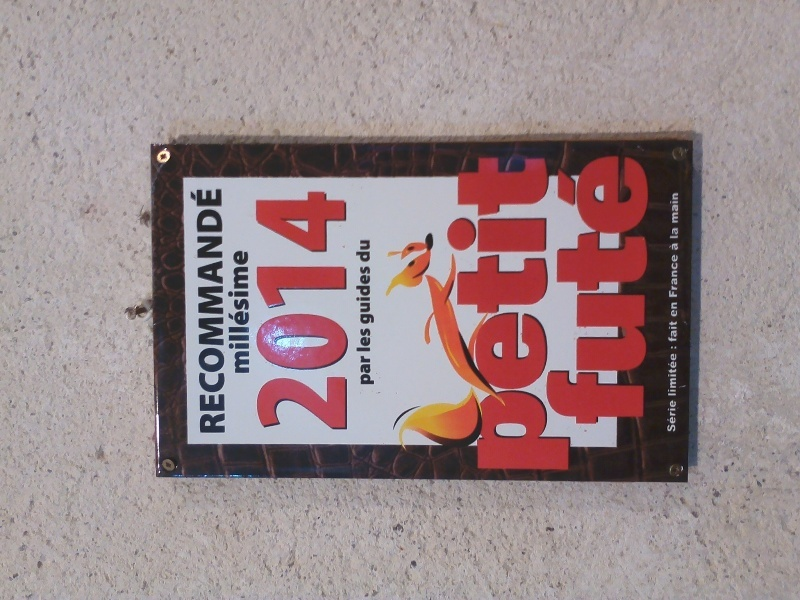text: (465, 151, 480, 477), (481, 151, 496, 477), (497, 151, 512, 477), (513, 151, 528, 477), (529, 151, 544, 477), (545, 151, 560, 477), (561, 151, 576, 477), (451, 151, 464, 477), (561, 152, 576, 428), (577, 152, 592, 428), (593, 152, 608, 428), (609, 152, 624, 428), (625, 152, 640, 428), (641, 152, 656, 428), (193, 181, 208, 435), (209, 181, 224, 435), (257, 190, 272, 432), (273, 190, 288, 432), (289, 190, 304, 432), (305, 190, 320, 432), (321, 190, 336, 432), (337, 190, 350, 432), (226, 247, 240, 376), (554, 152, 560, 428), (241, 247, 251, 376), (188, 181, 192, 435), (355, 266, 368, 327), (225, 181, 228, 435), (254, 190, 256, 432), (369, 266, 376, 327), (356, 239, 368, 263), (358, 326, 368, 354), (359, 355, 368, 386), (657, 152, 658, 428), (673, 252, 679, 298), (673, 353, 679, 398), (369, 355, 377, 386), (673, 192, 679, 224), (668, 353, 672, 398), (673, 398, 678, 433), (673, 318, 680, 343), (673, 225, 683, 242), (668, 398, 672, 433), (673, 299, 679, 319), (668, 318, 672, 343), (673, 240, 680, 254), (670, 252, 672, 298), (369, 326, 372, 354), (369, 239, 372, 263), (670, 192, 672, 224), (673, 343, 678, 352), (670, 299, 672, 319), (670, 225, 672, 242), (669, 343, 672, 352), (671, 240, 672, 254)
